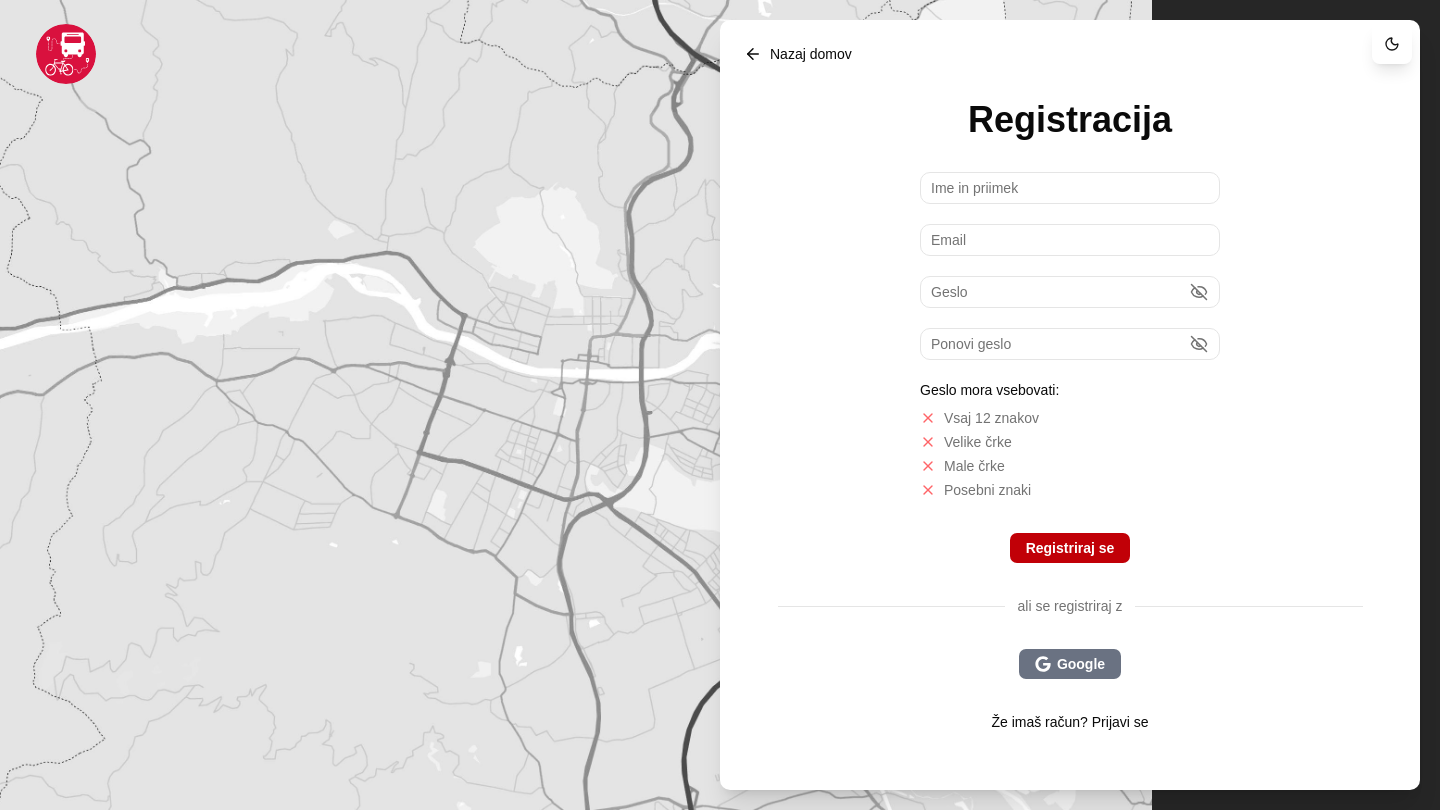
integracijski Login in Register › Register validira zahteve gesla in blokira prekratko geslo
Type "short" into the password field with placeholder "Geslo" at {"x": 1070, "y": 292}, box [920, 276, 1220, 308]
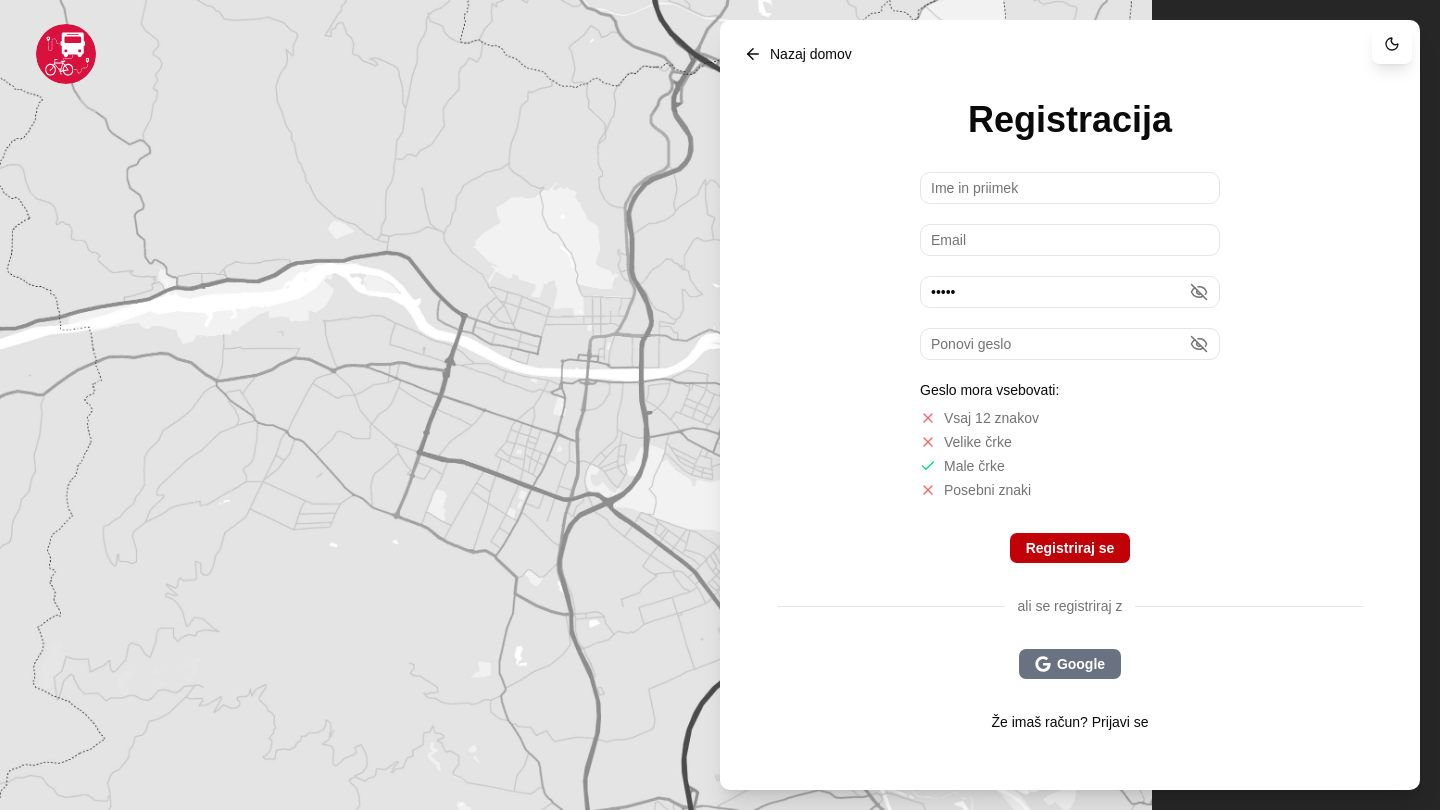
Click the button "Registriraj se" at {"x": 1070, "y": 548}, box [1009, 532, 1131, 564]
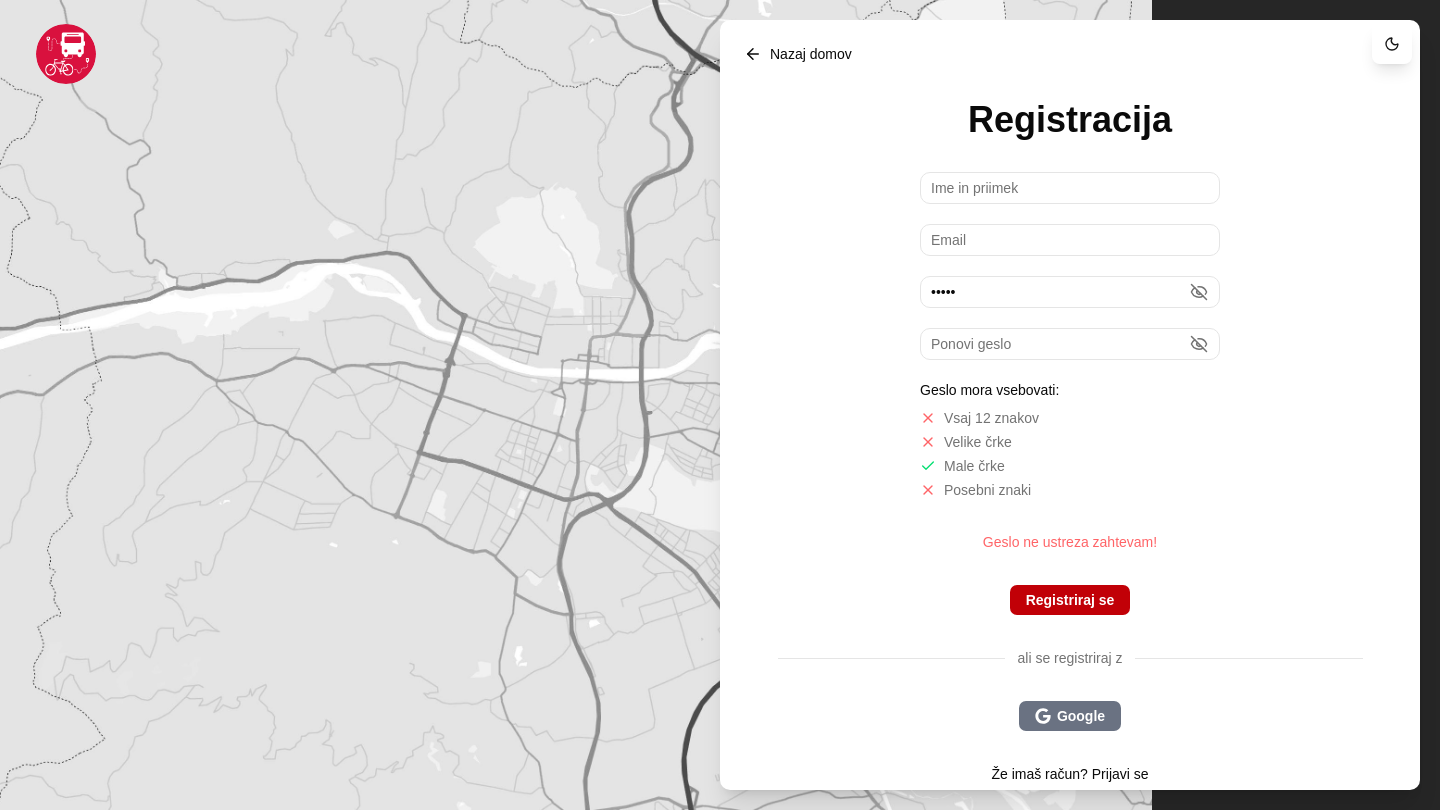
Check: the text "Geslo ne ustreza zahtevam!" is shown, box [983, 534, 1157, 550]
